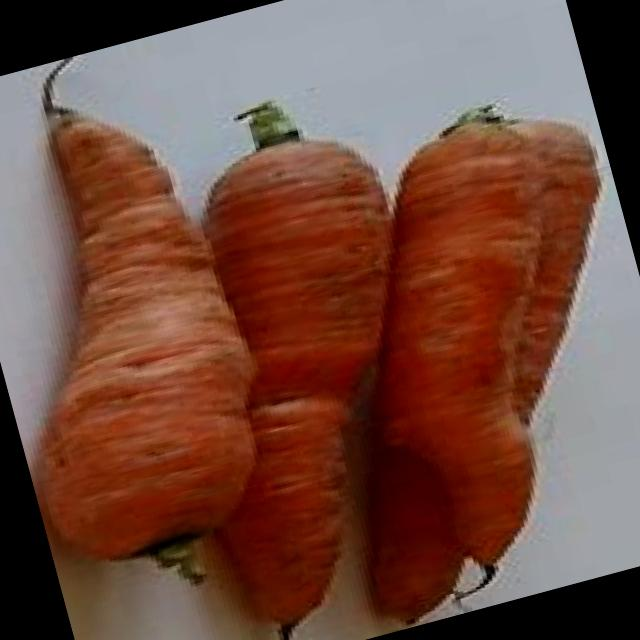carrot: (39, 74, 261, 559), (197, 143, 394, 621), (379, 116, 543, 573)
